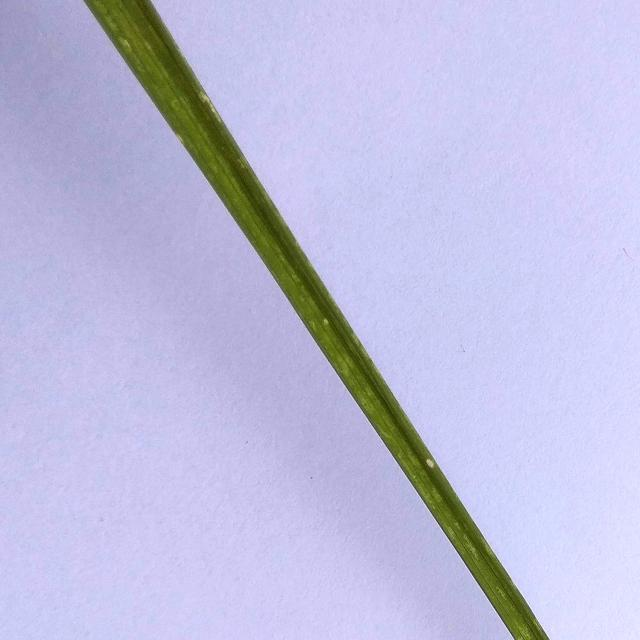Blast: (321, 314, 337, 331), (422, 456, 440, 468)
